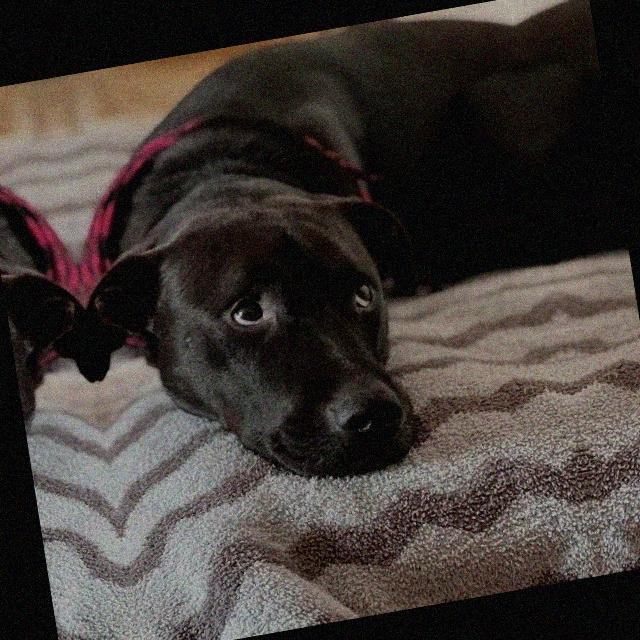dog: (71, 130, 484, 533), (0, 194, 117, 547)
